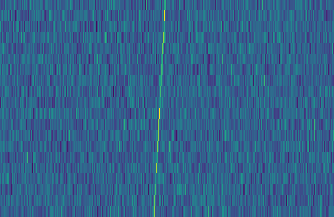signal: (148, 0, 169, 217)
